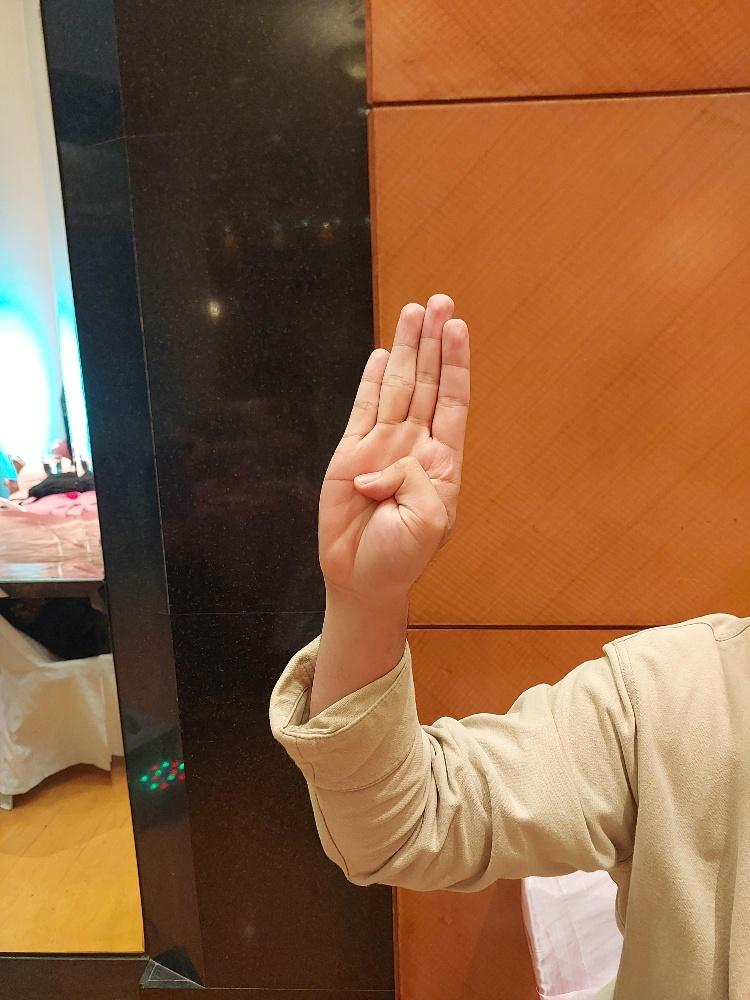b: (315, 291, 471, 596)
